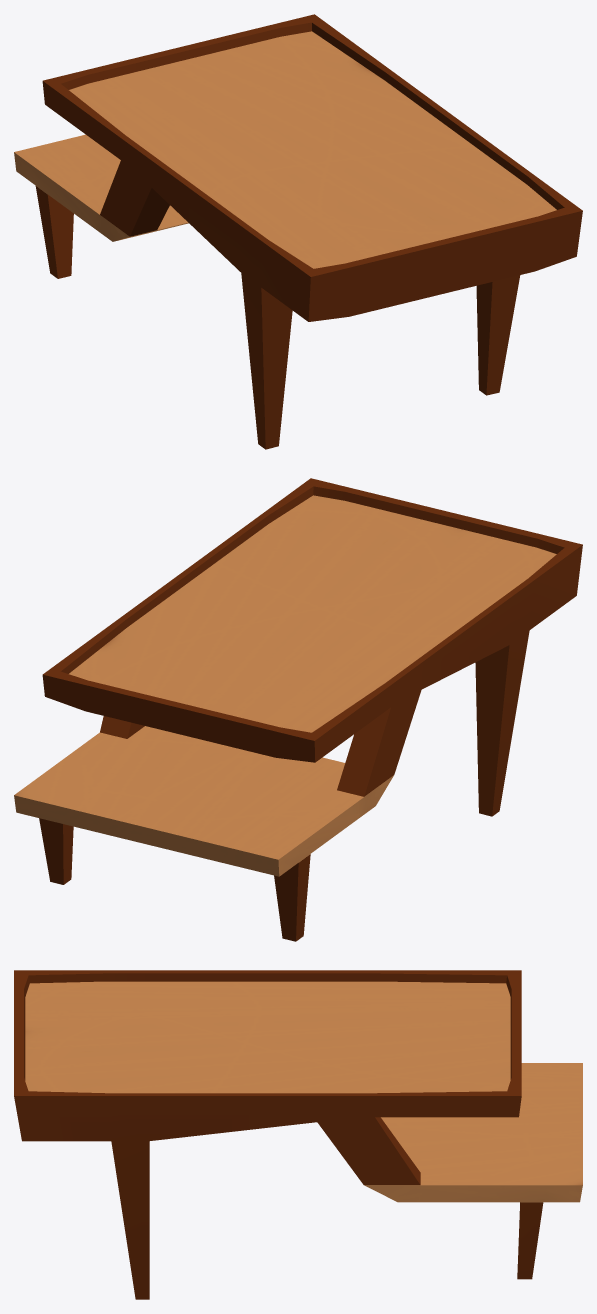
Rendered from table_twoTier.fbx.
The picture shows the model from 3 angles, top to bottom: view 1: azimuth 30°, elevation 25°; view 2: azimuth 150°, elevation 25°; view 3: azimuth 270°, elevation 25°; orthographic projection. The views are drawn at different scales.
Visible parts, largest first — view 1: towTierTable; view 2: towTierTable; view 3: towTierTable.
Part boxes in pixels (x1,y1,x2,y2): towTierTable: (14, 14, 582, 449); towTierTable: (14, 478, 582, 941); towTierTable: (14, 970, 582, 1299).
Bounding box in the file's own units: 3.53 × 2.78 × 6.76.
1 material, 1 textured.
